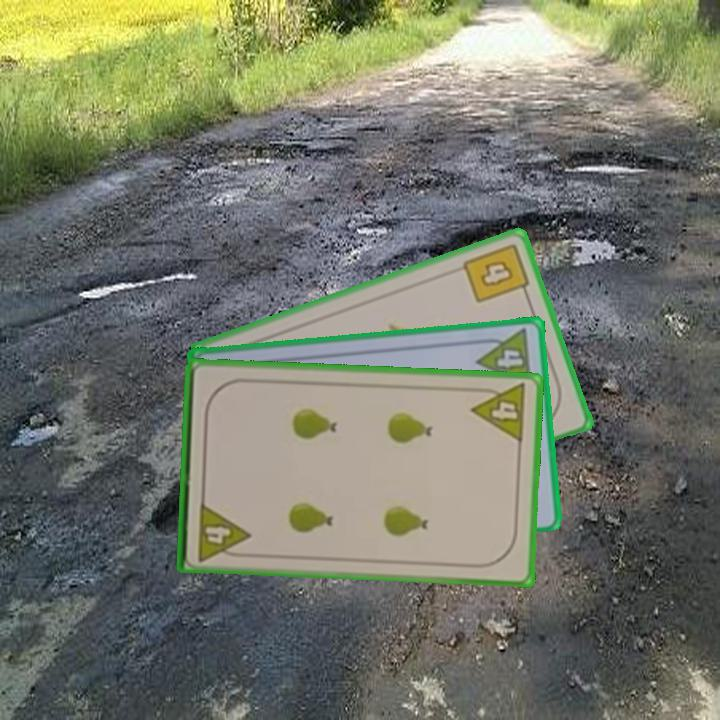4b: (459, 239, 533, 306)
4p: (472, 325, 535, 391), (468, 380, 530, 445), (194, 499, 252, 564)
